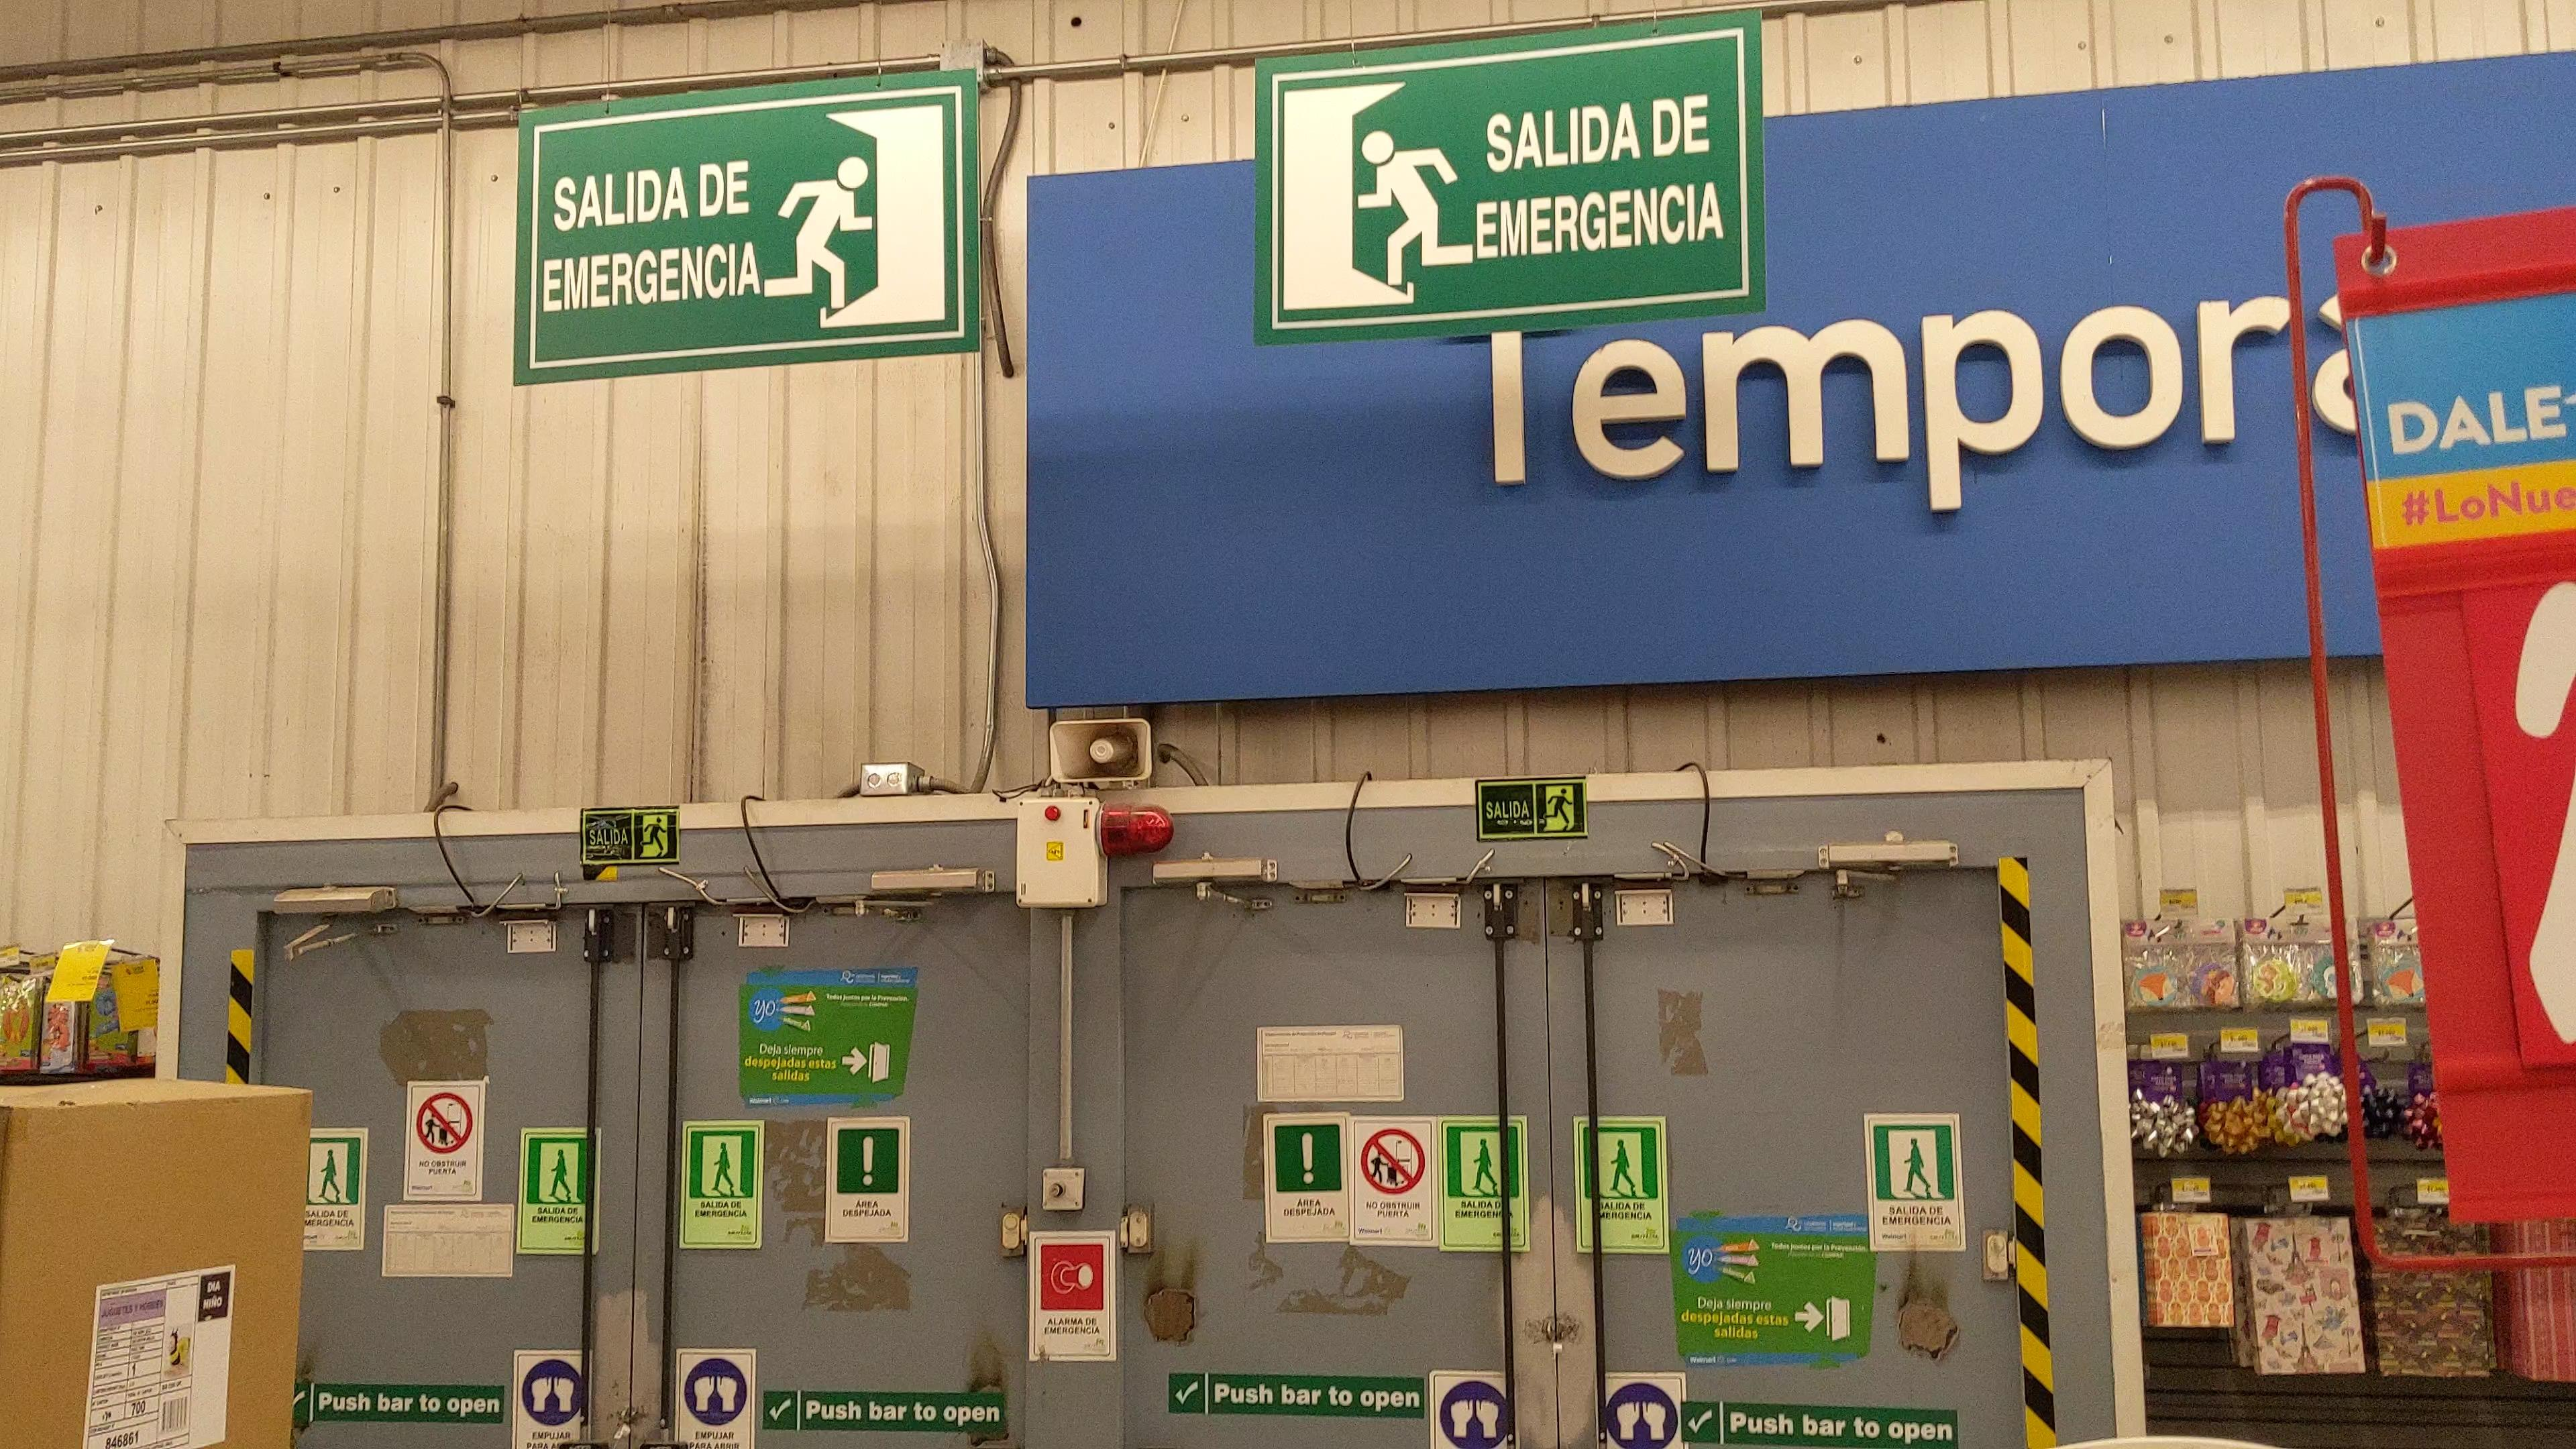emergency exit: (1541, 784, 1575, 832), (640, 814, 672, 858)
